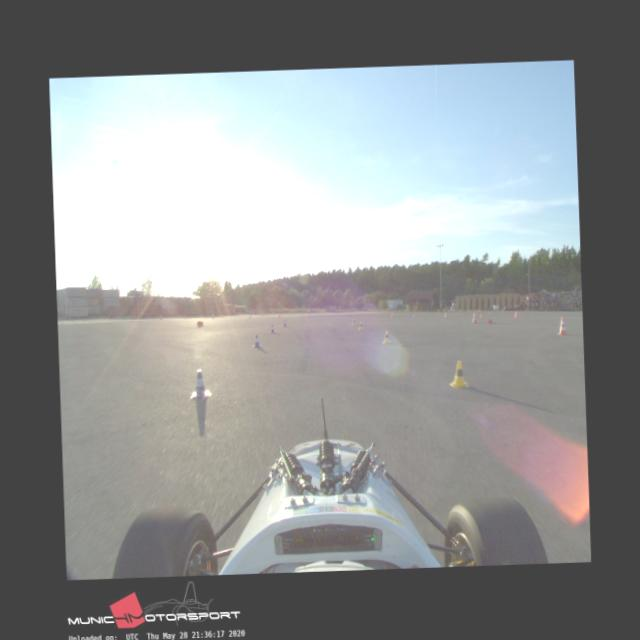blue_cone: (188, 368, 212, 400), (252, 333, 261, 348), (270, 323, 274, 332), (282, 319, 287, 326)
large_orange_cone: (556, 316, 567, 335), (472, 312, 477, 322)
yellow_cone: (448, 359, 469, 388), (382, 329, 391, 343), (358, 320, 363, 330)
